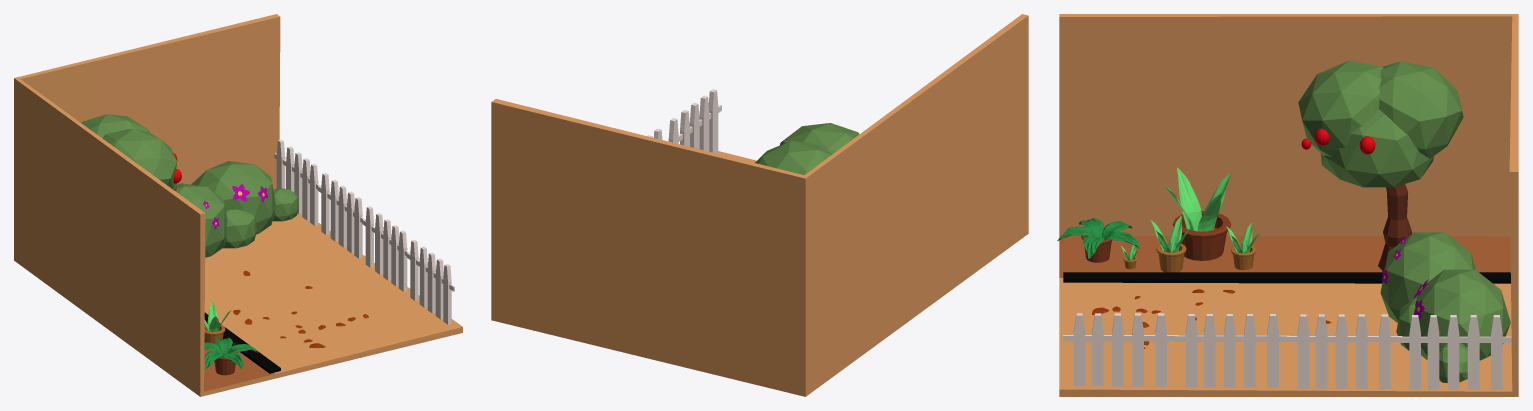
Rendered from room-5-garden.glb.
3 views of the same model, side by side, from view 1: azimuth 30°, elevation 25°; view 2: azimuth 150°, elevation 25°; view 3: azimuth 270°, elevation 25° (orthographic). The views are drawn at different scales.
Visible parts, largest first — view 1: Plane, Fence, Icosphere.002, Icosphere.006, Icosphere, Icosphere.001, Icosphere.005, Icosphere.003, Cube, Halaman; view 2: Plane, Fence, Icosphere.005, Icosphere.006; view 3: Plane, Fence, Icosphere.005, Icosphere.006, Icosphere.004, Icosphere.002, Icosphere, Cube, Cylinder.001, Cylinder.003, Halaman, Cylinder.005 (+3 smaller).
Boxes of the visible parts, box(x1,y1,x2,y2) form: Plane: box(14, 14, 462, 396); Fence: box(274, 139, 454, 324); Icosphere.002: box(191, 161, 275, 234); Icosphere.006: box(103, 129, 177, 189); Icosphere: box(175, 183, 227, 257); Icosphere.001: box(223, 209, 257, 248); Icosphere.005: box(81, 114, 149, 138); Icosphere.003: box(272, 188, 298, 221); Cube: box(204, 312, 280, 373); Halaman: box(204, 301, 230, 344); Plane: box(491, 14, 1028, 396); Fence: box(647, 89, 721, 153); Icosphere.005: box(755, 141, 832, 174); Icosphere.006: box(780, 123, 859, 153); Plane: box(1059, 14, 1518, 396); Fence: box(1063, 313, 1511, 389); Icosphere.005: box(1379, 61, 1463, 158); Icosphere.006: box(1298, 60, 1383, 156); Icosphere.004: box(1321, 109, 1433, 187); Icosphere.002: box(1414, 269, 1510, 360); Icosphere: box(1380, 232, 1475, 322); Cube: box(1063, 272, 1510, 283); Cylinder.001: box(1165, 167, 1231, 260); Cylinder.003: box(1378, 184, 1411, 271); Halaman: box(1150, 215, 1190, 272); Cylinder.005: box(1226, 223, 1259, 270).
Size of what is drawn, in the model's own units: 1.82 by 1.22 by 2.24.
